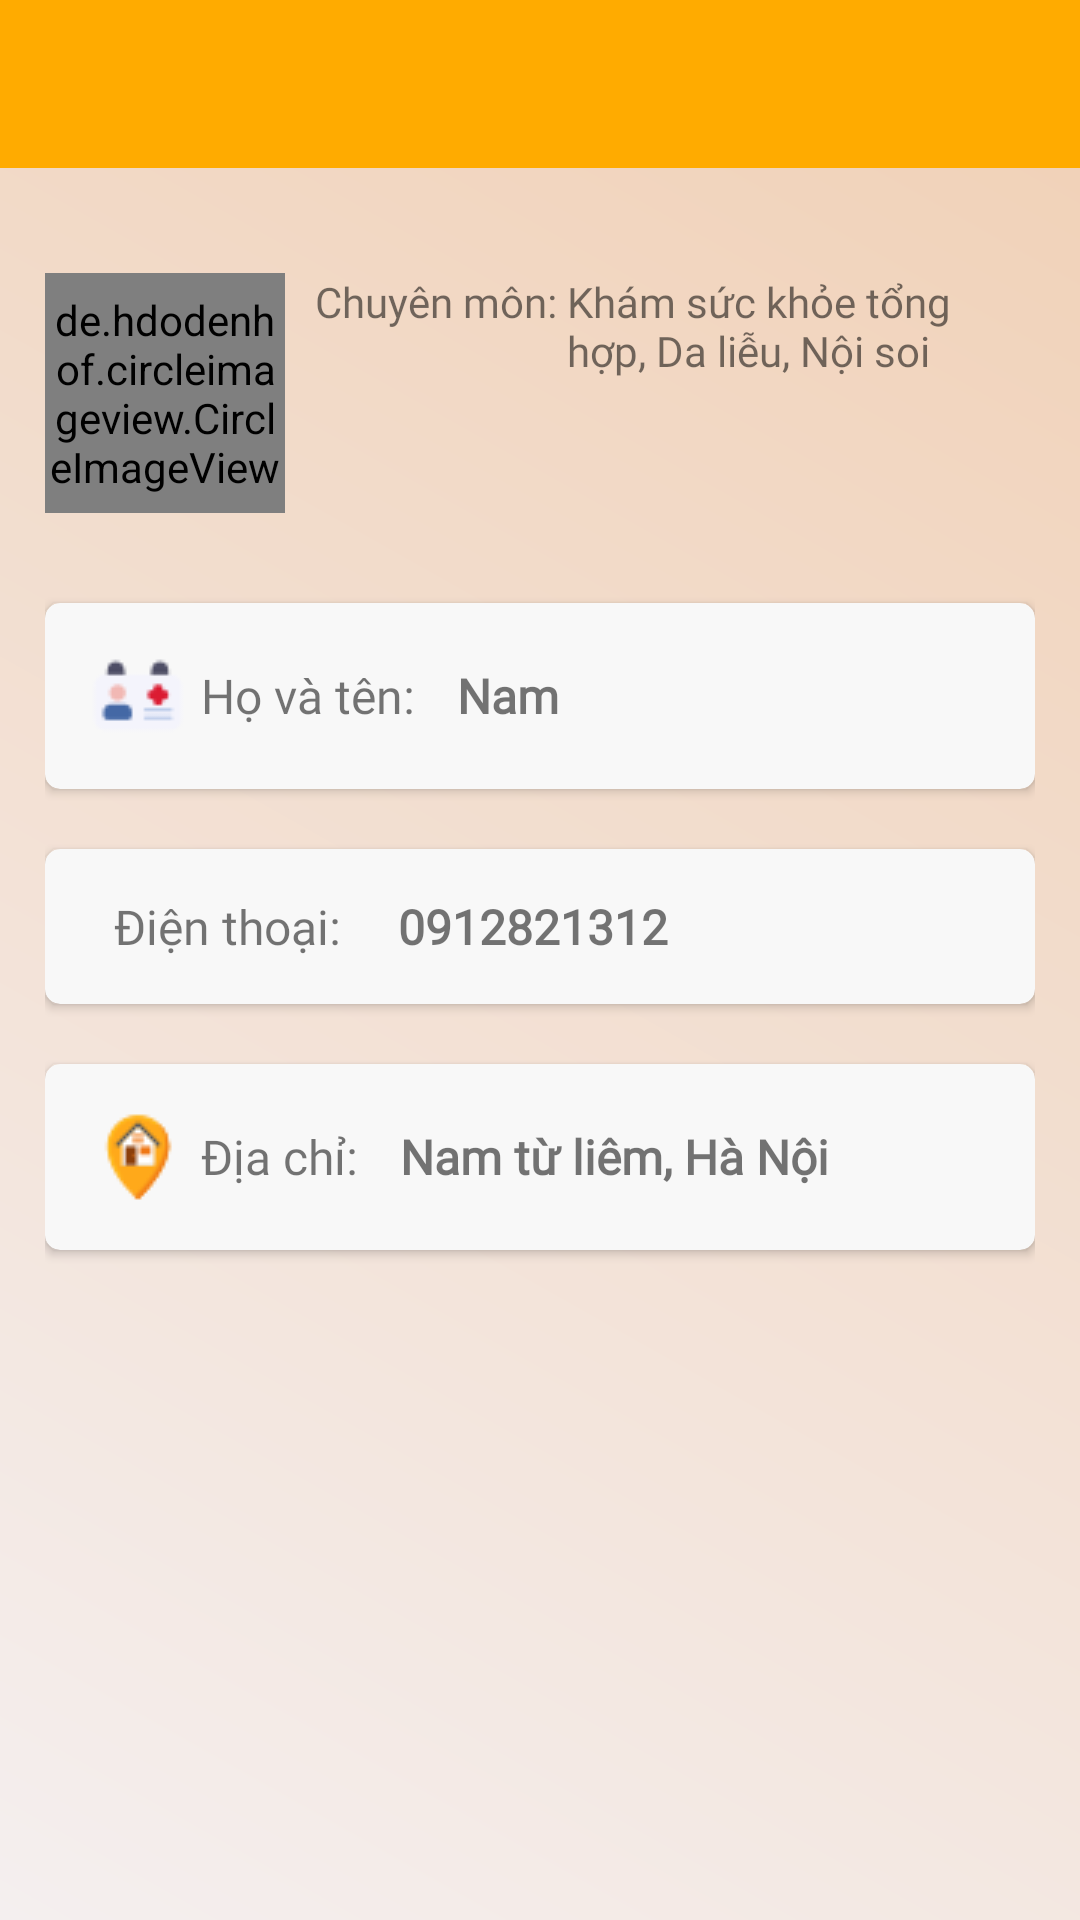

Icons on this 1080x1920 Android screen, each with the point to tap as point (x, y):
doctor name: point (137, 690)
location: point (138, 1157)
